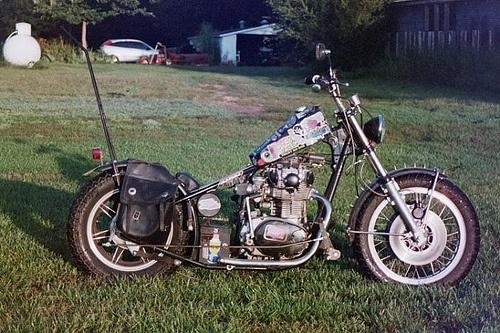car: (96, 40, 160, 66)
motorbike: (66, 42, 484, 285)
